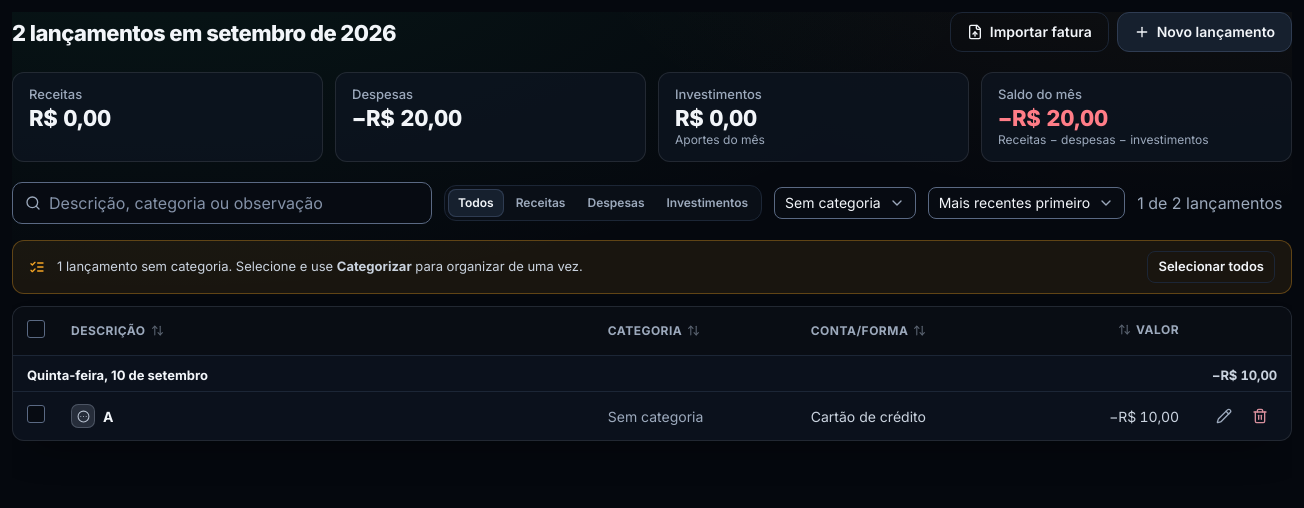
Test: CR-16 · lançamentos por dia e em lote › no filtro "Sem categoria" convida a categorizar em lote
Expected: the table is shown, [13,307,1291,440]
Expected: the element that starts with "1 lançamento" shows "1 lançamento sem categoria", [12,240,1292,294]
Click the button "Selecionar todos": (1211, 267) [1148,251,1275,283]
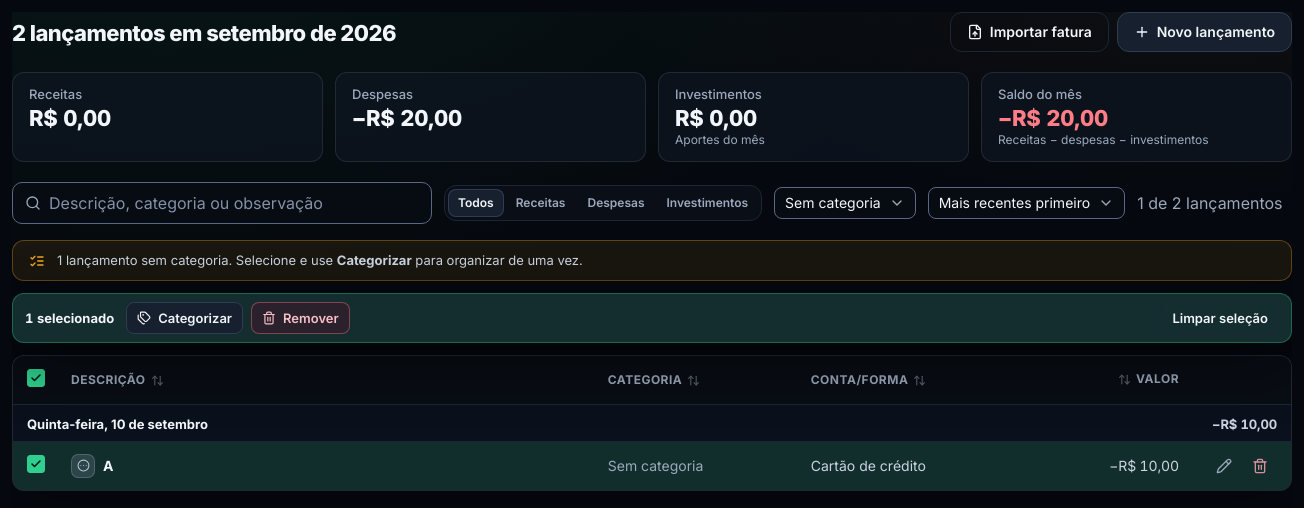
Now the element named "Ações em lote" shows "1 selecionado", box [25,310,114,326]
